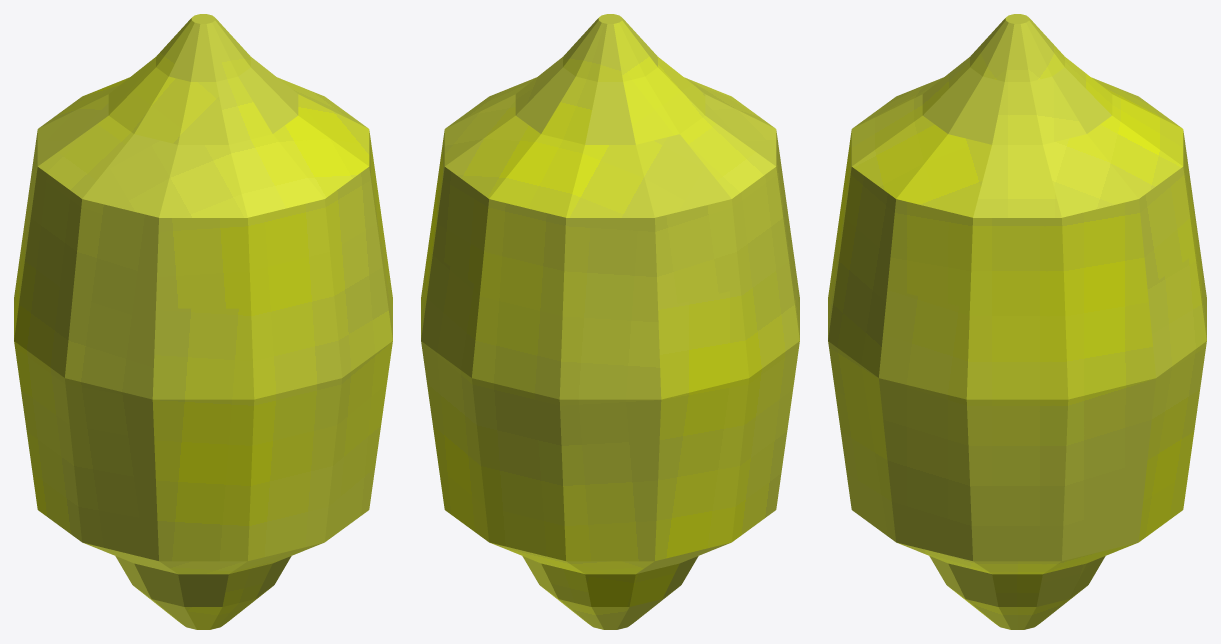
The model's file is cytrine.fbx.
The picture shows the model from 3 angles, left to right: view 1: azimuth 30°, elevation 25°; view 2: azimuth 150°, elevation 25°; view 3: azimuth 270°, elevation 25°; orthographic projection.
Visible parts, largest first — view 1: cylinder; view 2: cylinder; view 3: cylinder.
Boxes of the visible parts, x1,y1,x2,y2 form: cylinder: [14, 14, 392, 629]; cylinder: [421, 14, 799, 629]; cylinder: [828, 14, 1206, 629].
Size of the model in its own units: 50 by 87.5 by 50.
1 material, 1 textured.
